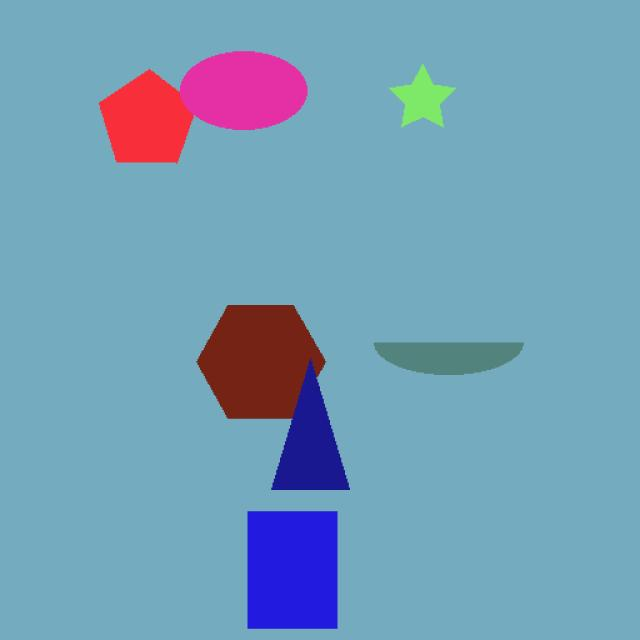Hexagon: (174, 290, 342, 426)
Oval: (168, 48, 331, 144)
Pentagon: (96, 57, 232, 194)
Semicircle: (364, 317, 590, 390)
Star: (383, 61, 457, 151)
Triangle: (260, 332, 365, 506)
square: (236, 511, 370, 640)
